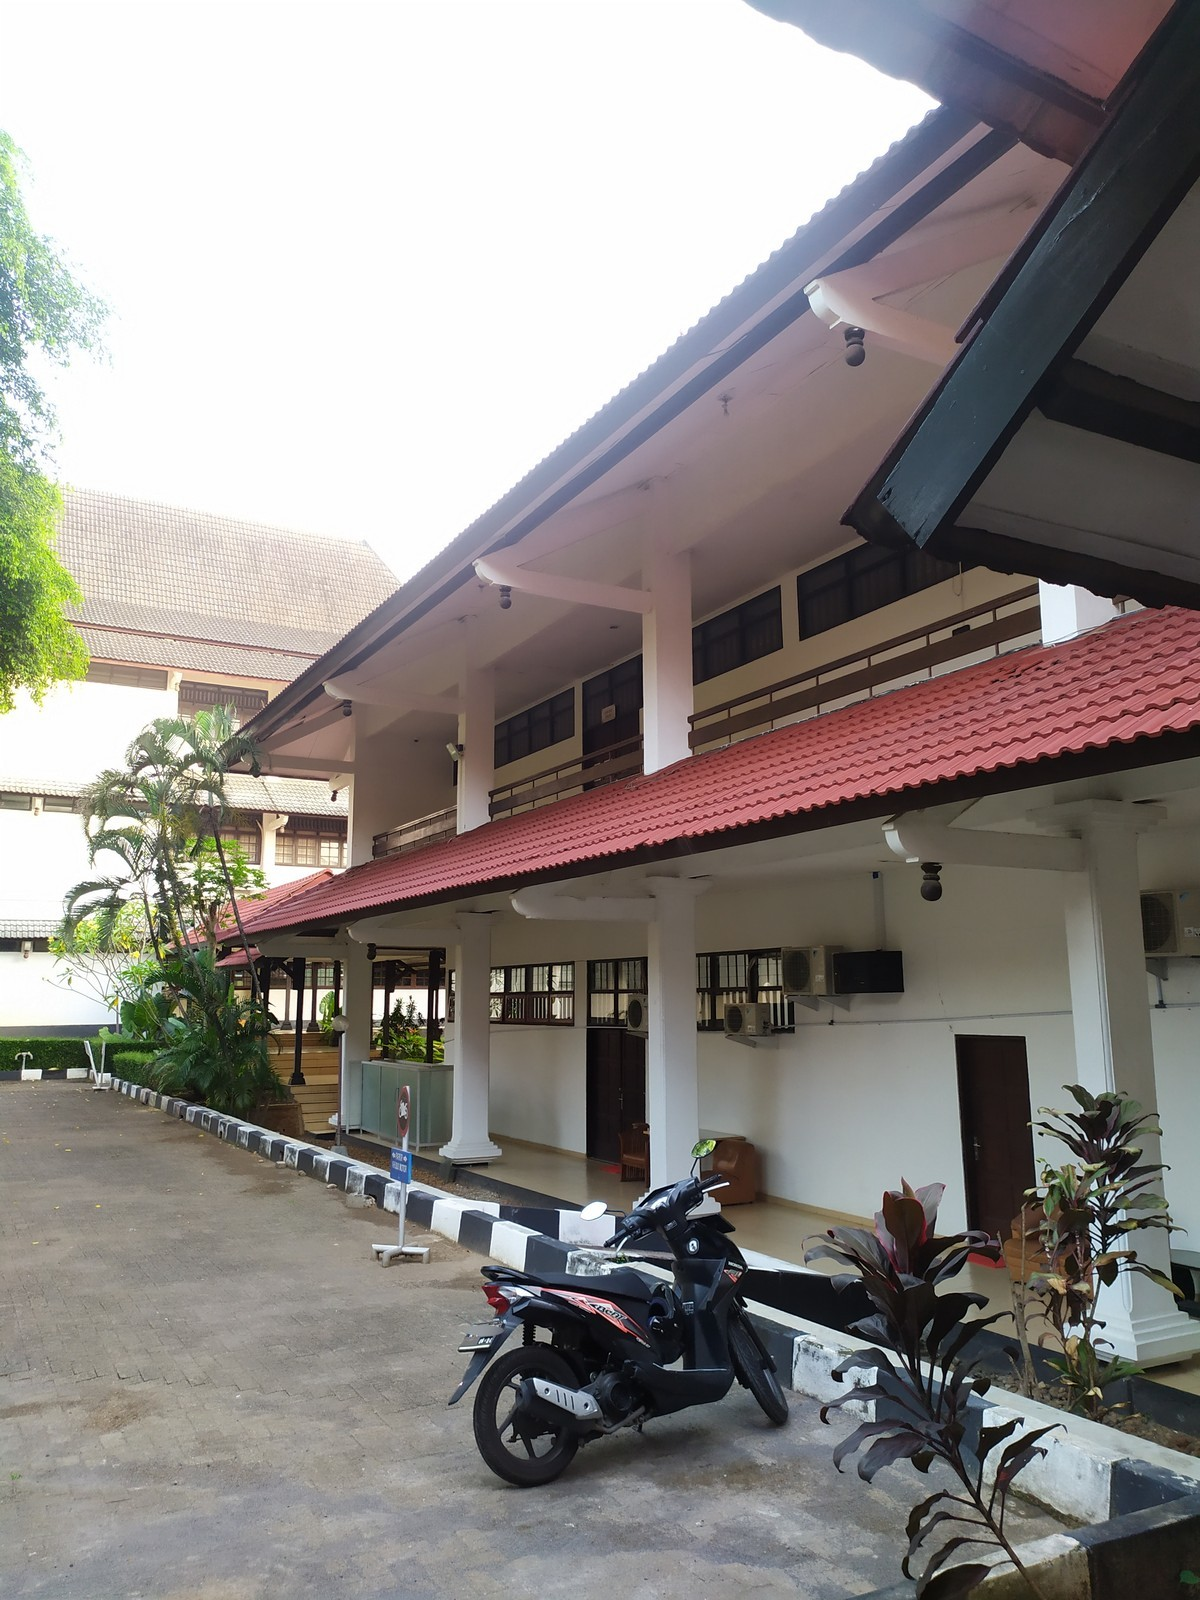concrete beam: (944, 824, 1092, 877), (532, 569, 661, 624), (550, 893, 673, 929)
concrete column: (1058, 850, 1182, 1311), (642, 876, 705, 1199), (634, 503, 700, 781), (451, 929, 499, 1155), (447, 663, 495, 842)
